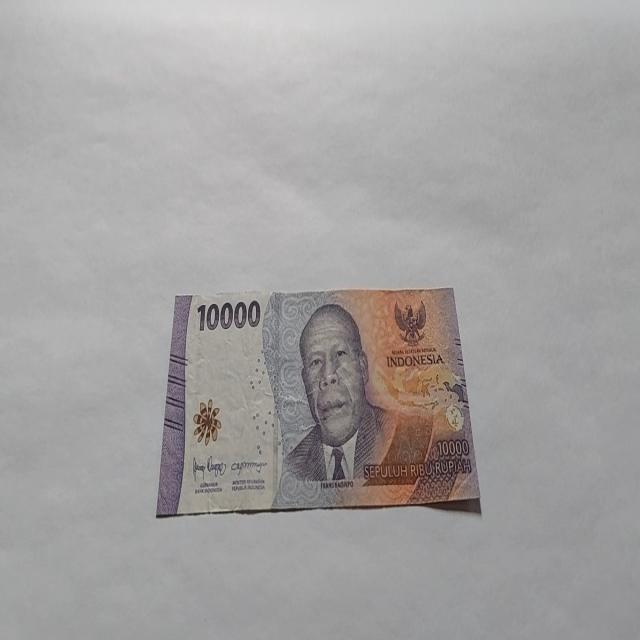sepuluh ribu rupiah: (156, 286, 482, 518)
